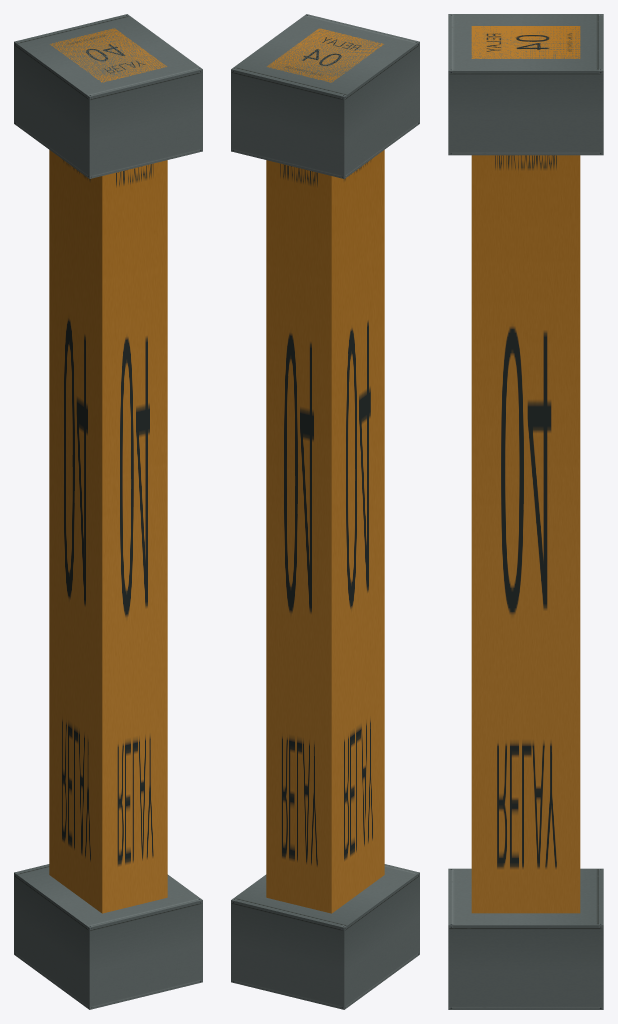
Rendered from column_4m_LOD3.obj.
The picture shows the model from 3 angles, left to right: view 1: azimuth 30°, elevation 25°; view 2: azimuth 150°, elevation 25°; view 3: azimuth 270°, elevation 25°; orthographic projection. The views are drawn at different scales.
Parts seen in each view (by area): view 1: L02_column_4m_LOD3; view 2: L02_column_4m_LOD3; view 3: L02_column_4m_LOD3.
Boxes of the visible parts, left/top/right/bottom form: L02_column_4m_LOD3: left=14, top=14, right=202, bottom=1009; L02_column_4m_LOD3: left=231, top=14, right=419, bottom=1009; L02_column_4m_LOD3: left=448, top=14, right=603, bottom=1009.
Bounding box in the file's own units: 0.52 × 4 × 0.6.
Materials: 1 (1 with a texture image).
